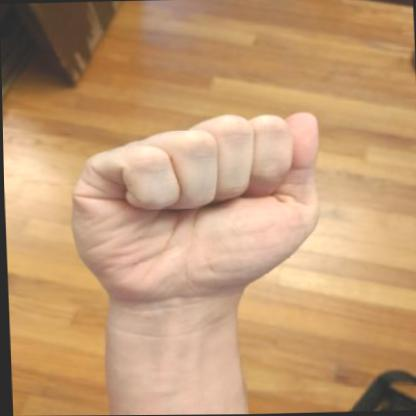A: (59, 107, 331, 308)
